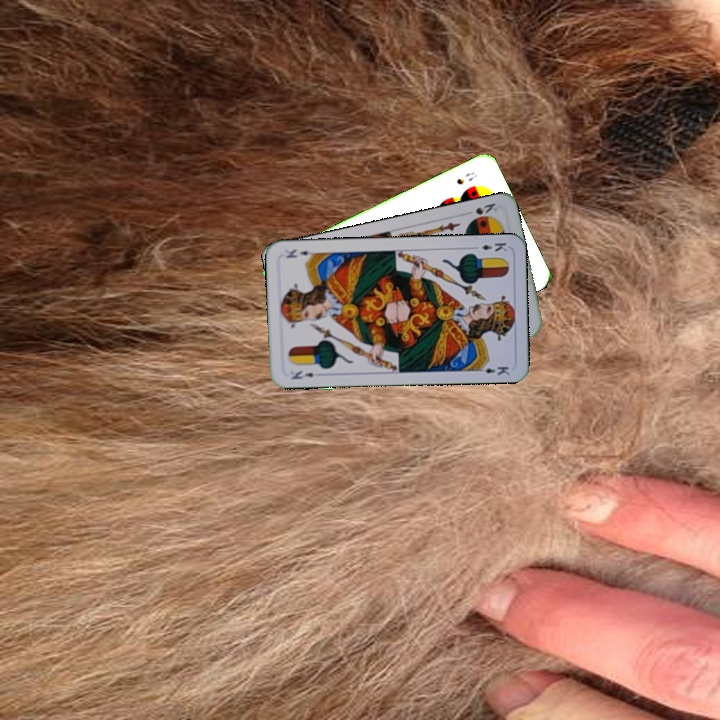EK: (469, 238, 509, 254), (288, 366, 316, 382)
S8: (452, 168, 479, 187)
SK: (467, 199, 500, 223)
